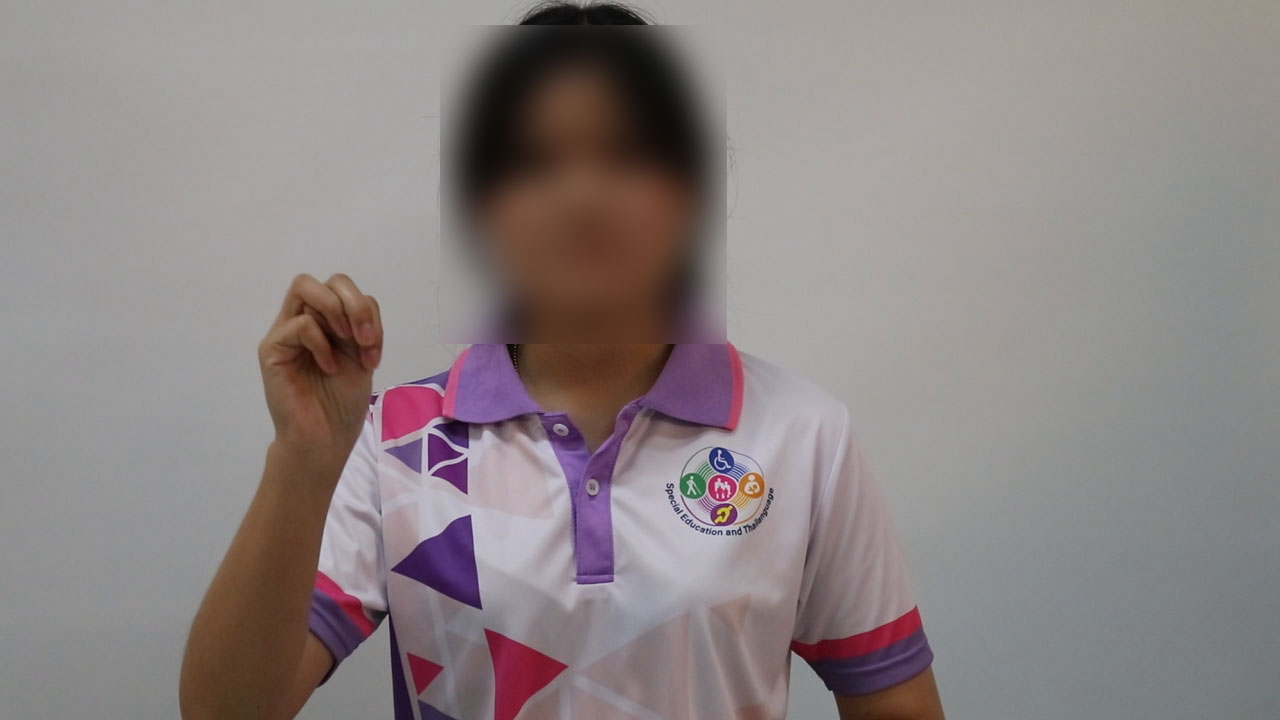mor: (233, 259, 397, 478)
